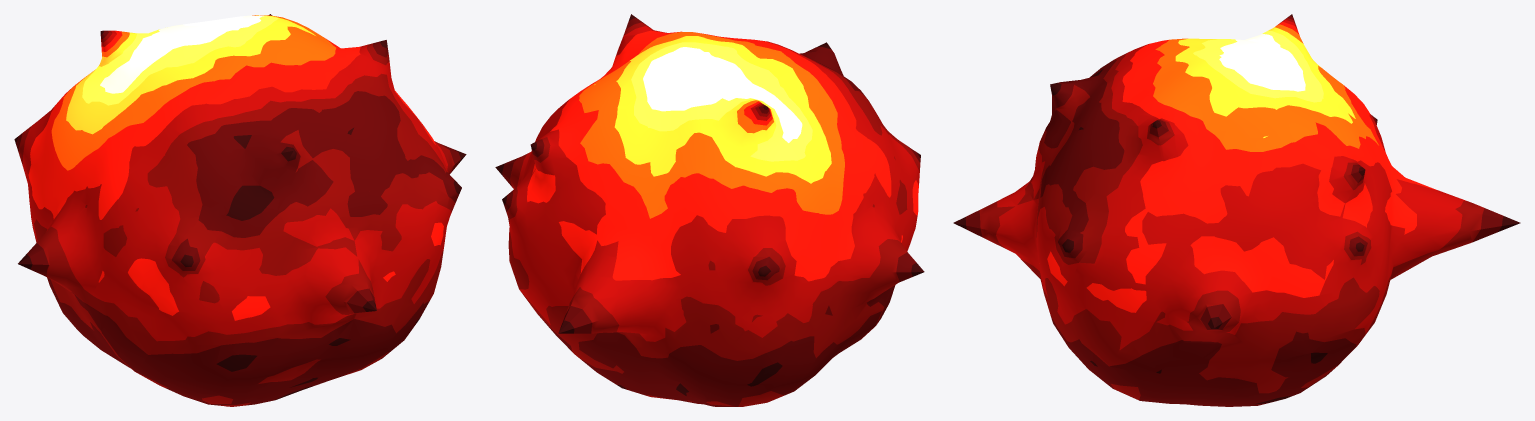
File: fire_spike_ball.glb
3 renders of one model, left to right at view 1: azimuth 30°, elevation 25°; view 2: azimuth 150°, elevation 25°; view 3: azimuth 270°, elevation 25°, orthographic. The views are drawn at different scales.
Visible parts, largest first — view 1: fire_spike_ball; view 2: fire_spike_ball; view 3: fire_spike_ball.
Boxes of the visible parts, box(x1,y1,x2,y2) form: fire_spike_ball: box(14, 14, 466, 406); fire_spike_ball: box(495, 14, 924, 406); fire_spike_ball: box(953, 14, 1520, 406).
Size of the model in its own units: 12.23 by 9.26 by 14.13.
